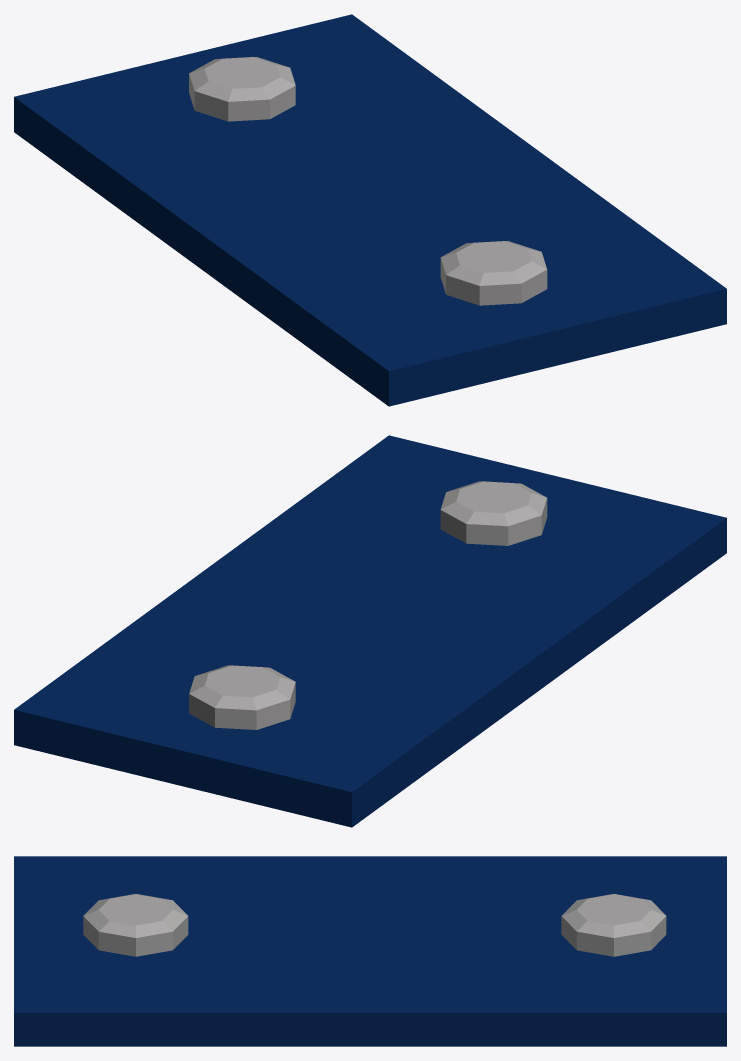
File: Xylophone_06.fbx
3 views of the same model, one above another, from view 1: azimuth 30°, elevation 25°; view 2: azimuth 150°, elevation 25°; view 3: azimuth 270°, elevation 25° (orthographic). The views are drawn at different scales.
Parts seen in each view (by area): view 1: Xylophone_06; view 2: Xylophone_06; view 3: Xylophone_06.
Part boxes in pixels (<box>): Xylophone_06: <box>14,14,726,406</box>; Xylophone_06: <box>14,435,726,827</box>; Xylophone_06: <box>14,856,726,1046</box>.
Bounding box in the file's own units: 100 × 17.38 × 192.
